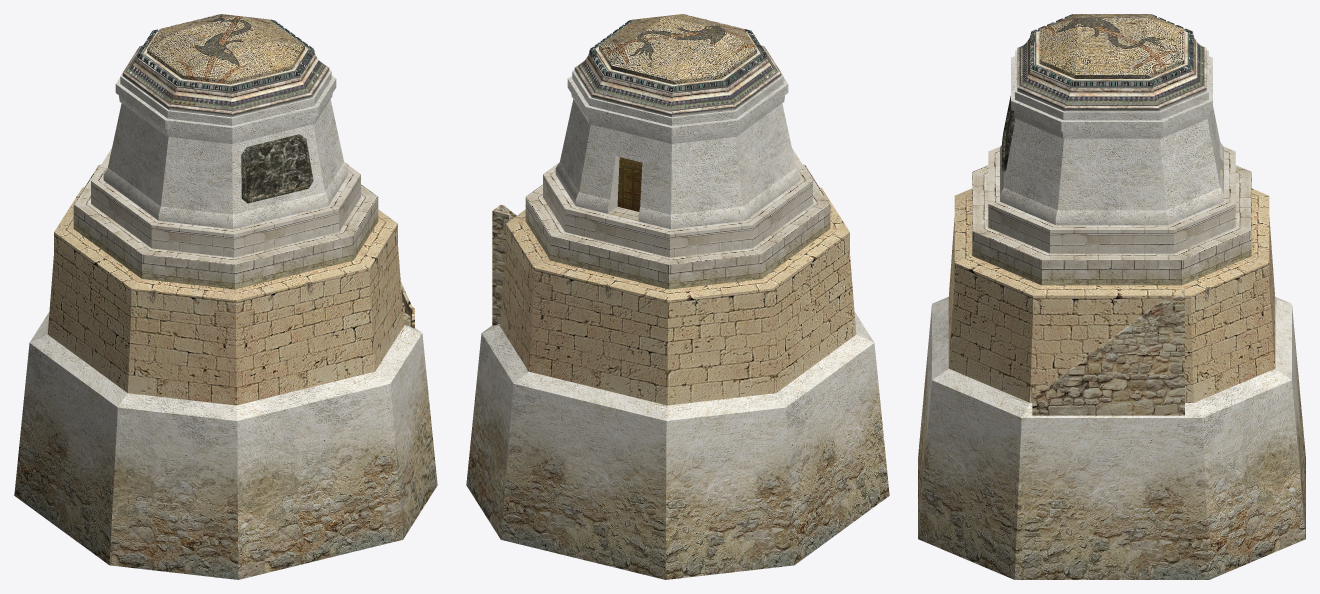
The model's file is colossus_pedestal_1.dae.
3 views of the same model, side by side, from view 1: azimuth 30°, elevation 25°; view 2: azimuth 150°, elevation 25°; view 3: azimuth 270°, elevation 25° (orthographic). The views are drawn at different scales.
Parts seen in each view (by area): view 1: final colossus lp.004; view 2: final colossus lp.004; view 3: final colossus lp.004.
Part boxes in pixels (x1,y1,x2,y2): final colossus lp.004: (14,14,437,579); final colossus lp.004: (466,14,889,579); final colossus lp.004: (918,14,1305,579).
Size of the model in its own units: 18.49 by 18.49 by 24.48.
